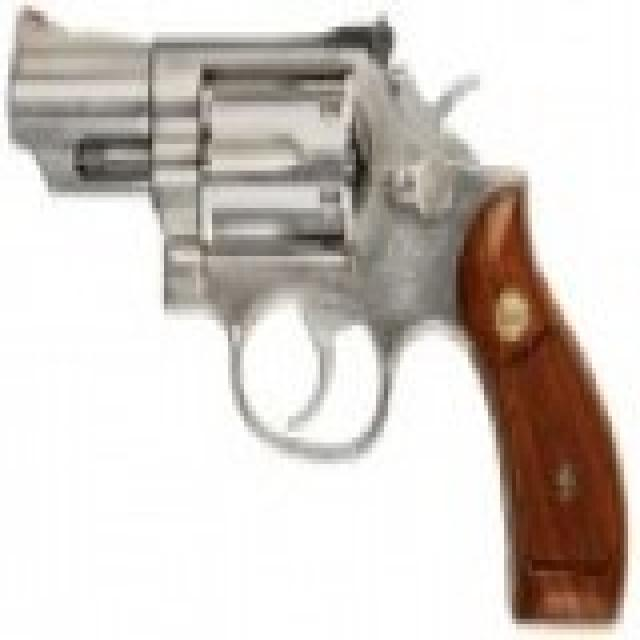gun: (4, 0, 616, 613)
